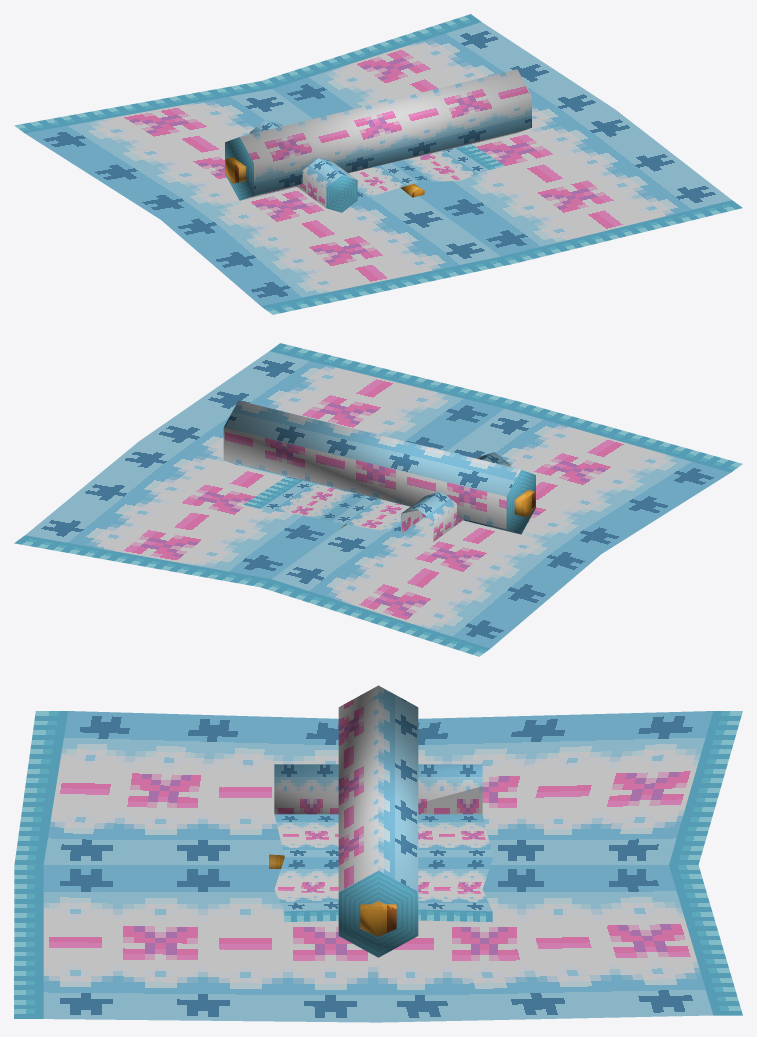
3 renders of one model, top to bottom at view 1: azimuth 30°, elevation 25°; view 2: azimuth 150°, elevation 25°; view 3: azimuth 270°, elevation 25°, orthographic. The views are drawn at different scales.
Visible parts, largest first — view 1: 5270ucc_nunoji00; view 2: 5270ucc_nunoji00; view 3: 5270ucc_nunoji00.
Boxes of the visible parts, bbox=[...] form: 5270ucc_nunoji00: bbox=[14, 14, 742, 314]; 5270ucc_nunoji00: bbox=[14, 343, 742, 656]; 5270ucc_nunoji00: bbox=[14, 685, 742, 1022].
Bounding box in the file's own units: 2.02 × 0.2949 × 2.
2 materials, 2 textured.
